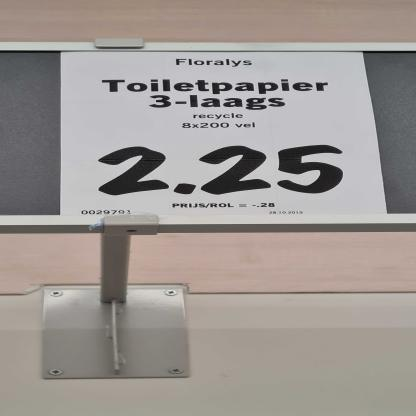prtg: (60, 52, 388, 216)
